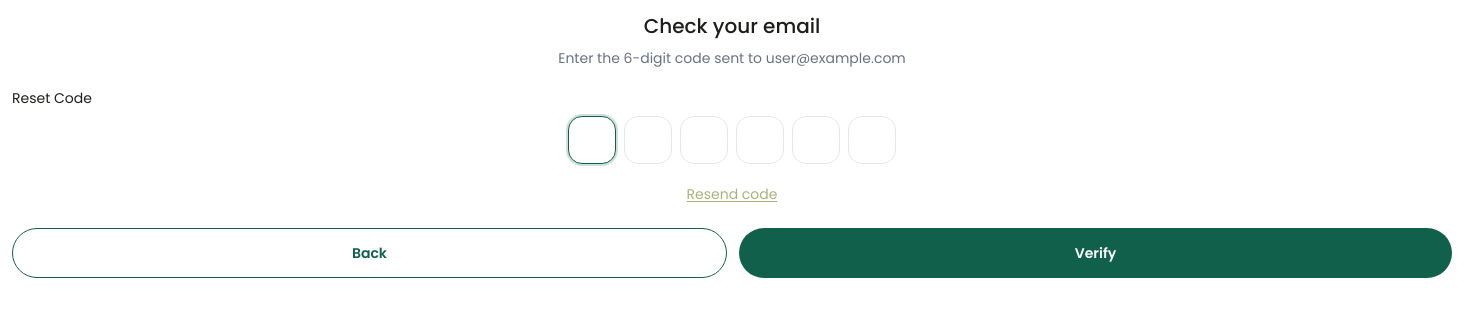
Test: ForgotPasswordVerifyForm › shows invalid-code error for wrong code responses
Step 1. Type "1" into the 1st field → (592, 140), box 568,116 -> 616,164
Step 2. Type "1" into the 2nd field → (648, 140), box 624,116 -> 672,164
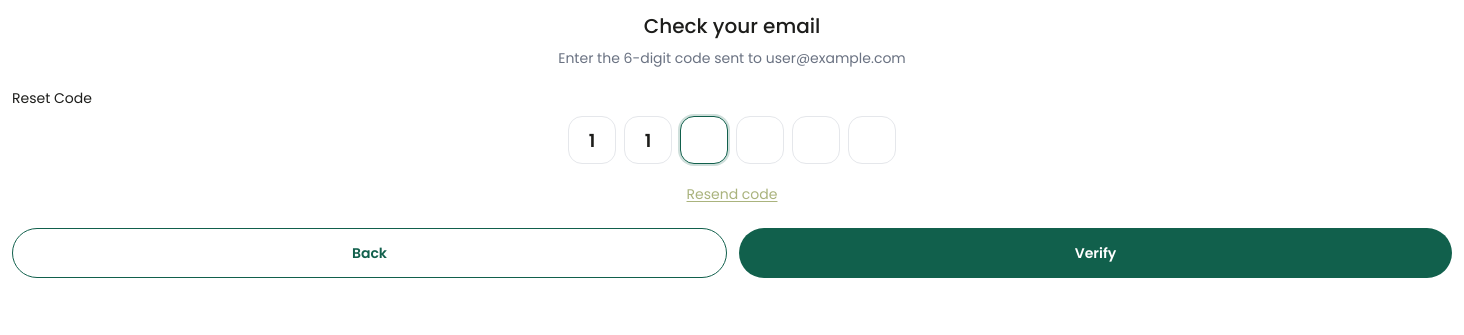
Step 3. Type "1" into the 3rd field → (704, 140), box 680,116 -> 728,164
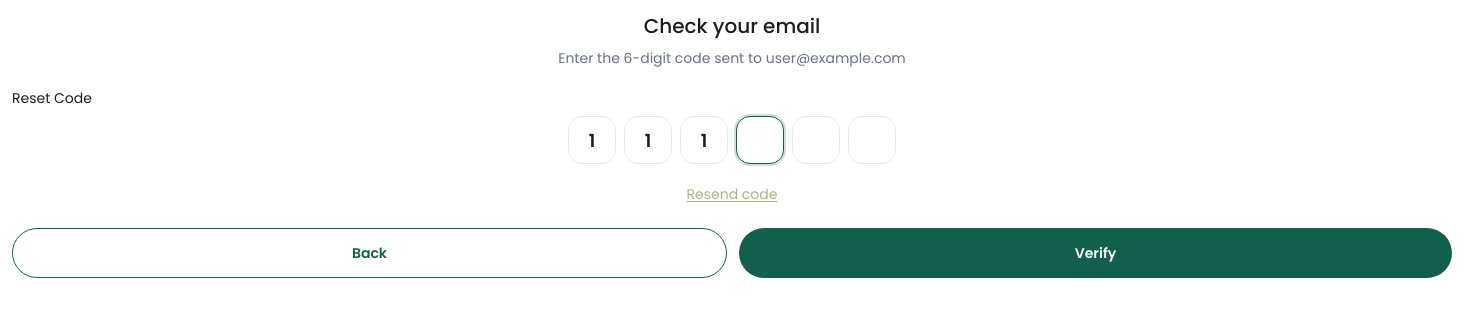
Step 4. Type "1" into the 4th field → (760, 140), box 736,116 -> 784,164
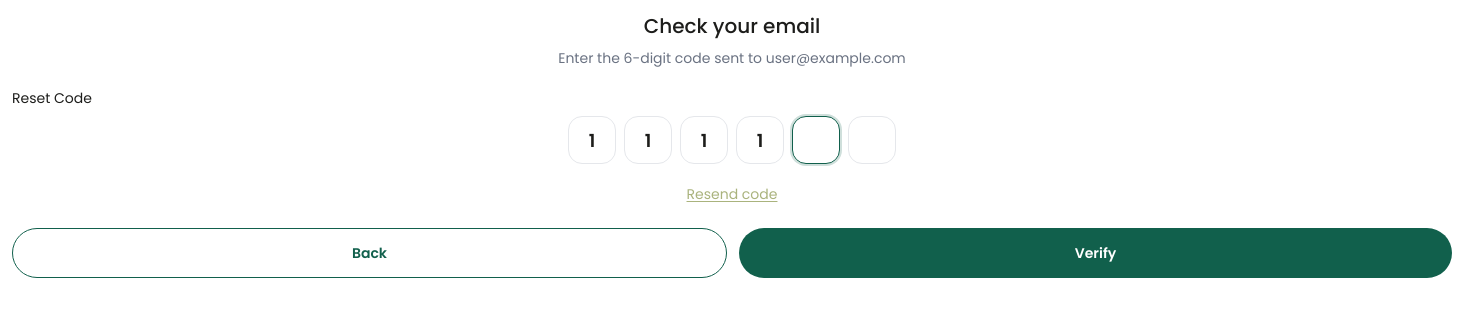
Step 5. Type "1" into the 5th field → (816, 140), box 792,116 -> 840,164
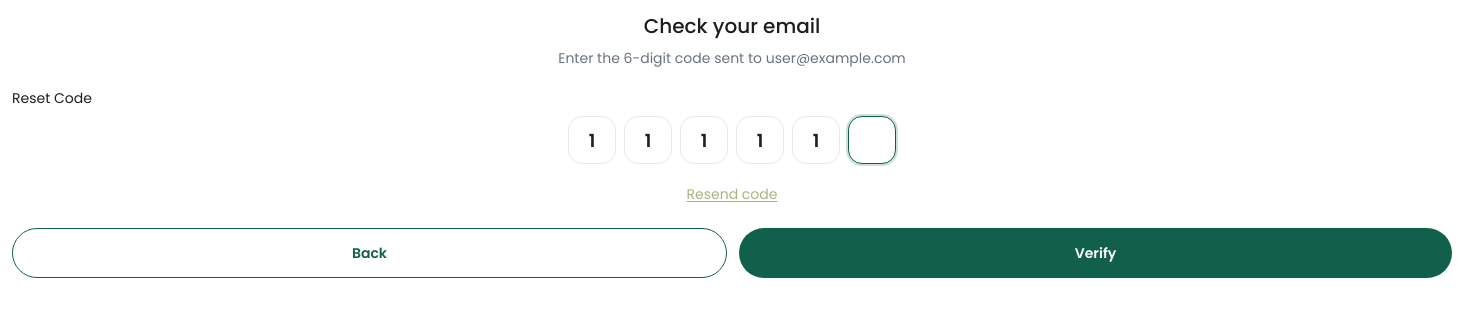
Step 6. Type "1" into the 6th field → (872, 140), box 848,116 -> 896,164
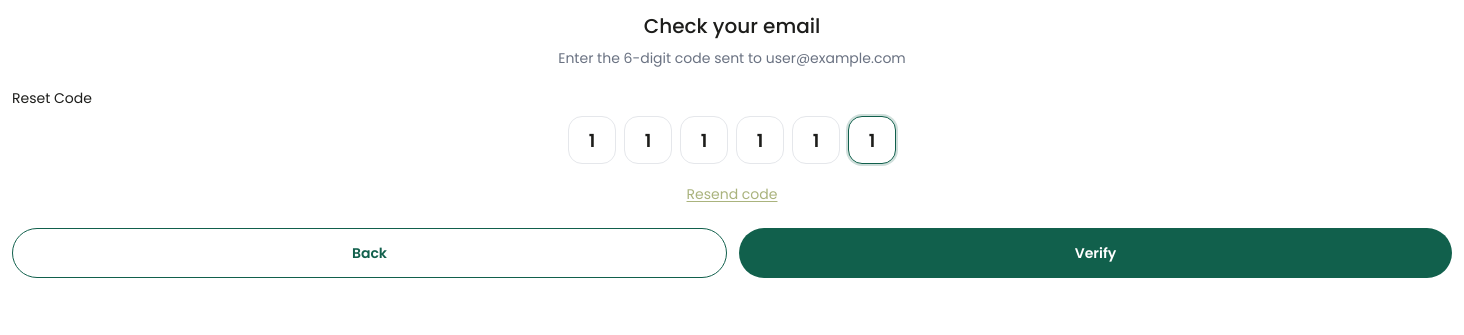
Step 7. Submit the form from the button "Verify", box 739,228 -> 1452,278
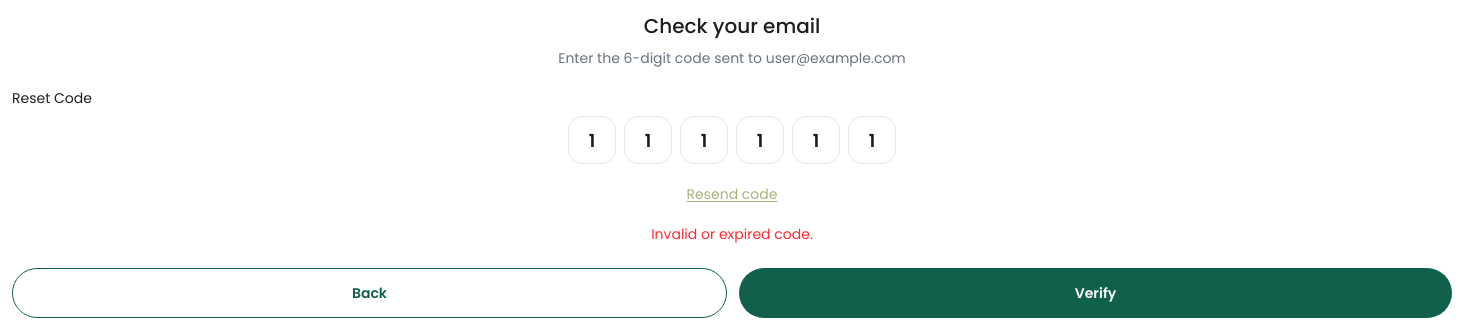
expect the text "Invalid or expired code." is shown: met, box 651,224 -> 813,244
